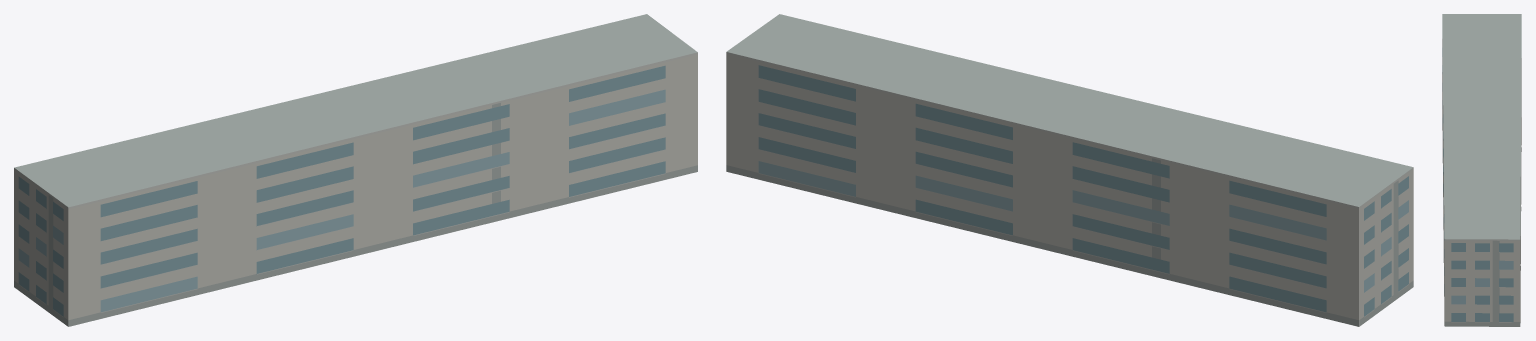
File: residential-6e58fa7a-10f5-45e3-8090-9042e102d77a.glb
3 views of the same model, side by side, from view 1: azimuth 30°, elevation 25°; view 2: azimuth 150°, elevation 25°; view 3: azimuth 270°, elevation 25° (orthographic). The views are drawn at different scales.
Visible parts, largest first — view 1: residential-6e58fa7a-10f5-45e3-8090-9042e102d77a.tmp; view 2: residential-6e58fa7a-10f5-45e3-8090-9042e102d77a.tmp; view 3: residential-6e58fa7a-10f5-45e3-8090-9042e102d77a.tmp.
Part boxes in pixels (x1=…): residential-6e58fa7a-10f5-45e3-8090-9042e102d77a.tmp: x1=14, y1=14, x2=697, y2=326; residential-6e58fa7a-10f5-45e3-8090-9042e102d77a.tmp: x1=726, y1=14, x2=1413, y2=326; residential-6e58fa7a-10f5-45e3-8090-9042e102d77a.tmp: x1=1442, y1=14, x2=1521, y2=326.
Bounding box in the file's own units: 84.4 × 15.25 × 12.58.
